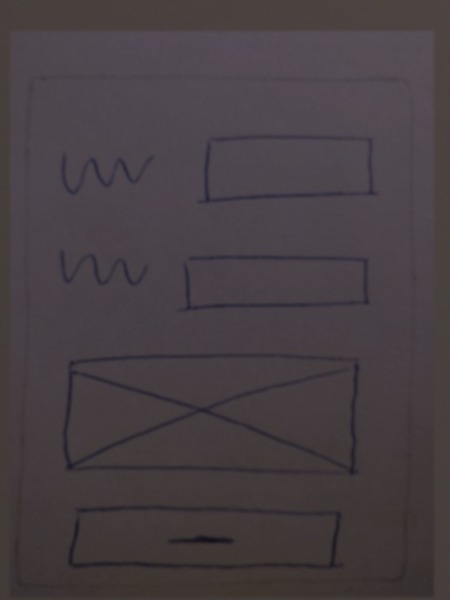button: (52, 500, 354, 575)
image: (49, 344, 379, 490)
text: (47, 139, 158, 200), (49, 241, 152, 299)
text_input: (186, 126, 388, 210), (167, 245, 377, 320)
